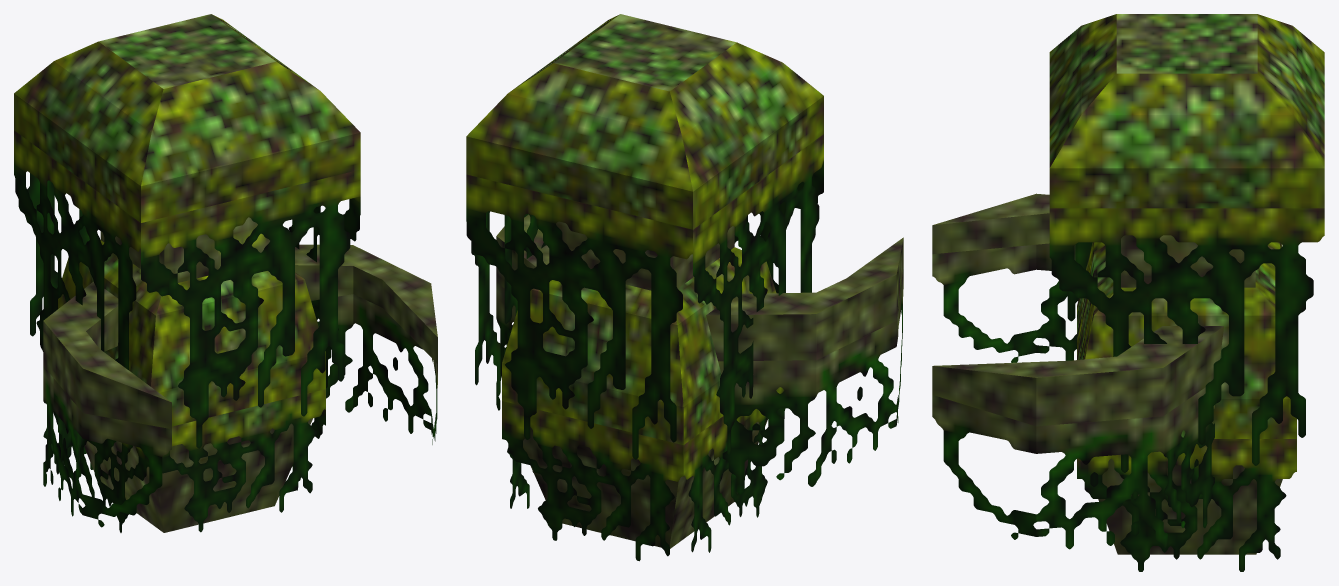
File: shambler.obj
The picture shows the model from 3 angles, left to right: view 1: azimuth 30°, elevation 25°; view 2: azimuth 150°, elevation 25°; view 3: azimuth 270°, elevation 25°; orthographic projection. The views are drawn at different scales.
Visible parts, largest first — view 1: Head, Body, RightArm, LeftArm; view 2: Head, Body, RightArm, LeftArm; view 3: Head, LeftArm, Body, RightArm.
Part boxes in pixels (x1,y1,x2,y2): Head: (14,14,360,448); Body: (53,240,325,532); RightArm: (43,281,171,527); LeftArm: (295,244,437,444); Head: (466,14,823,459); Body: (502,247,785,561); RightArm: (706,237,903,494); LeftArm: (496,214,549,410); Head: (1049,14,1324,472); LeftArm: (932,326,1223,549); Body: (1077,242,1296,571); RightArm: (932,193,1076,362).
Size of the model in its own units: 3.26 by 3.98 by 2.94.
